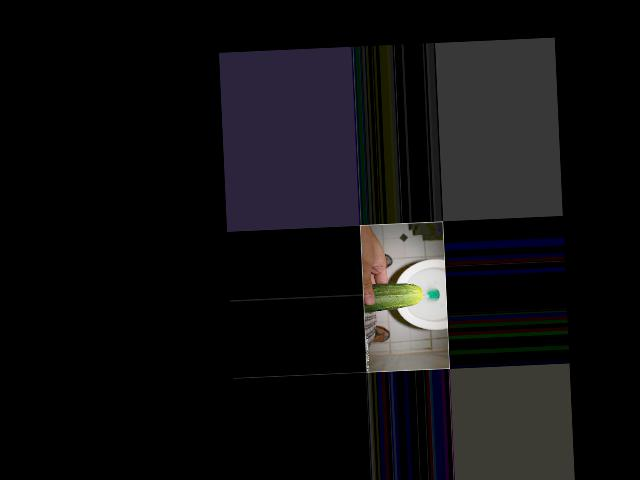cucumber: (362, 282, 423, 313)
